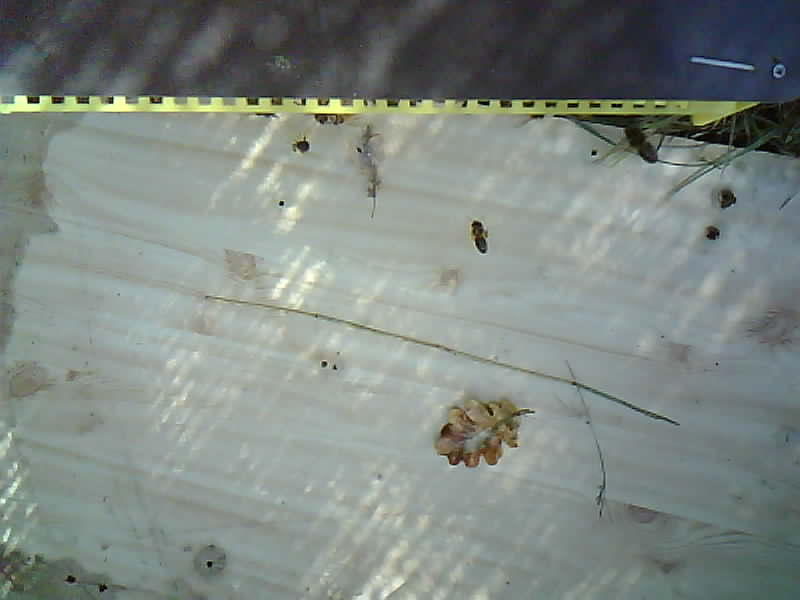bee: (466, 216, 494, 256)
